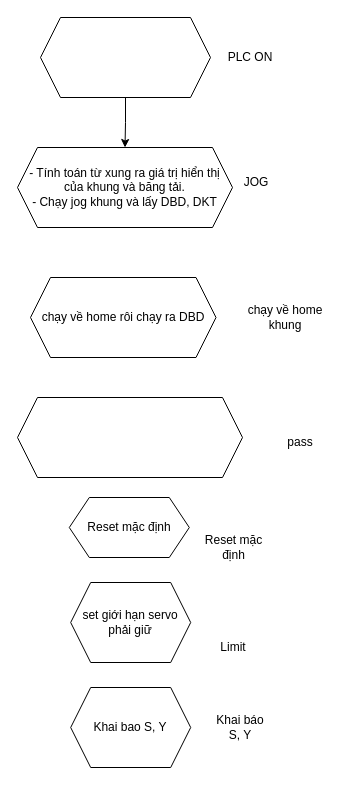
The diagram is 348 pixels wide and 785 high, and some of its shapes have lost their labels. The shapes that lost their labels are listed below. From the top down, each one's centre as x and y in pixels, then its label:
the point at 125,57: Tính toán xung DBD, DKT, KCD, vận tốc(khung), vận tốc, xung dời của băng tải
the point at 129,437: check pass để mở tính năng
